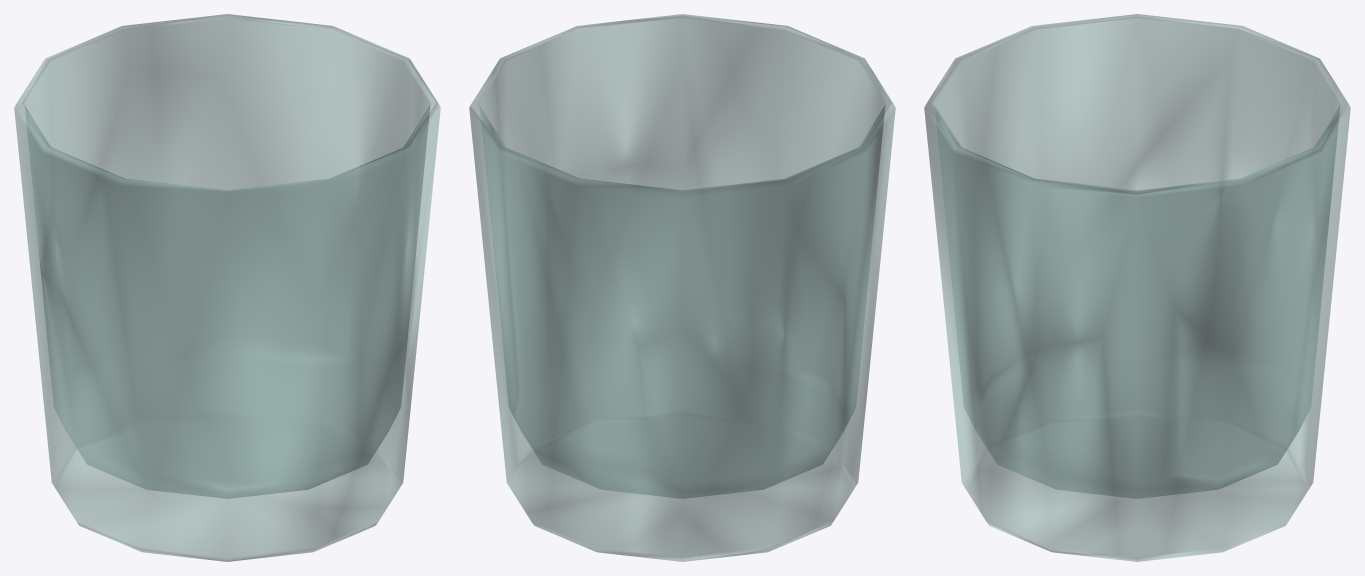
File: Prop_Glass.fbx
3 views of the same model, side by side, from view 1: azimuth 30°, elevation 25°; view 2: azimuth 150°, elevation 25°; view 3: azimuth 270°, elevation 25° (orthographic).
Parts seen in each view (by area): view 1: Whisky_Glass; view 2: Whisky_Glass; view 3: Whisky_Glass.
Part boxes in pixels (x1,y1,x2,y2): Whisky_Glass: (14, 14, 440, 561); Whisky_Glass: (469, 14, 895, 561); Whisky_Glass: (924, 14, 1350, 561).
Size of the model in its own units: 8 by 8 by 8.
